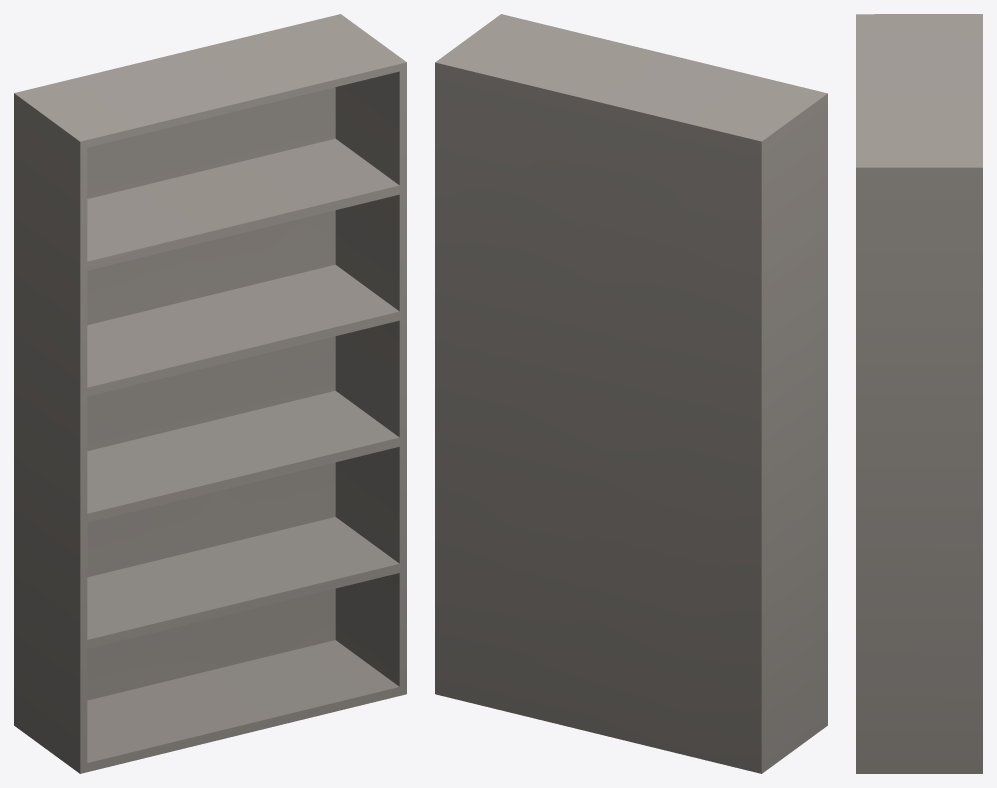
Rendered from Shelving_5Tier_Grey.fbx.
3 renders of one model, left to right at view 1: azimuth 30°, elevation 25°; view 2: azimuth 150°, elevation 25°; view 3: azimuth 270°, elevation 25°, orthographic. The views are drawn at different scales.
Visible parts, largest first — view 1: Shelving_5Tier_Grey; view 2: Shelving_5Tier_Grey; view 3: Shelving_5Tier_Grey.
Boxes of the visible parts, x1,y1,x2,y2 form: Shelving_5Tier_Grey: [14, 14, 406, 773]; Shelving_5Tier_Grey: [435, 14, 827, 773]; Shelving_5Tier_Grey: [856, 14, 982, 773].
Bounding box in the file's own units: 103 × 190 × 36.08.
